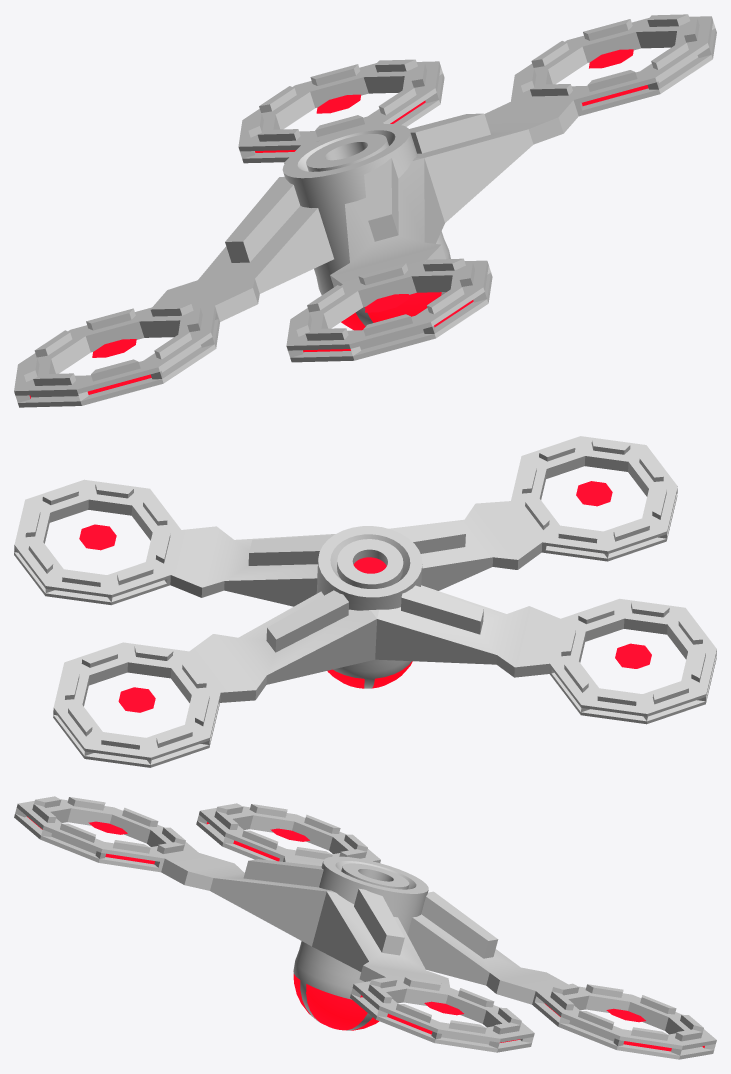
File: drone.glb
The picture shows the model from 3 angles, top to bottom: view 1: azimuth 30°, elevation 25°; view 2: azimuth 150°, elevation 25°; view 3: azimuth 270°, elevation 25°; orthographic projection. The views are drawn at different scales.
Visible parts, largest first — view 1: drone; view 2: drone; view 3: drone.
Boxes of the visible parts, x1,y1,x2,y2 form: drone: [14, 14, 716, 407]; drone: [14, 436, 716, 767]; drone: [14, 796, 716, 1059].
Size of the model in its own units: 0.9432 by 0.233 by 0.8905.
